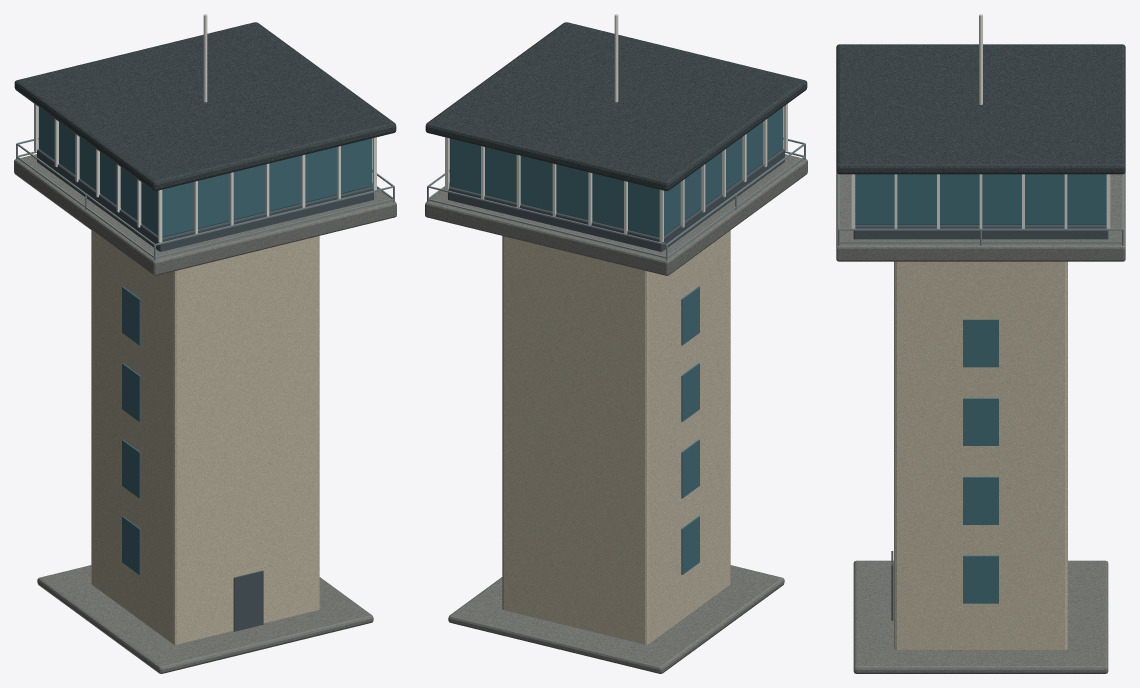
File: ControlTower_23m_LOD0.glb
3 views of the same model, side by side, from view 1: azimuth 30°, elevation 25°; view 2: azimuth 150°, elevation 25°; view 3: azimuth 270°, elevation 25° (orthographic). The views are drawn at different scales.
Visible parts, largest first — view 1: ControlTower_23m_export; view 2: ControlTower_23m_export; view 3: ControlTower_23m_export.
Boxes of the visible parts, x1,y1,x2,y2 form: ControlTower_23m_export: [14, 14, 396, 673]; ControlTower_23m_export: [425, 14, 807, 673]; ControlTower_23m_export: [836, 14, 1125, 673].
Bounding box in the file's own units: 10 × 23.1 × 10.
7 materials, 3 textured.
